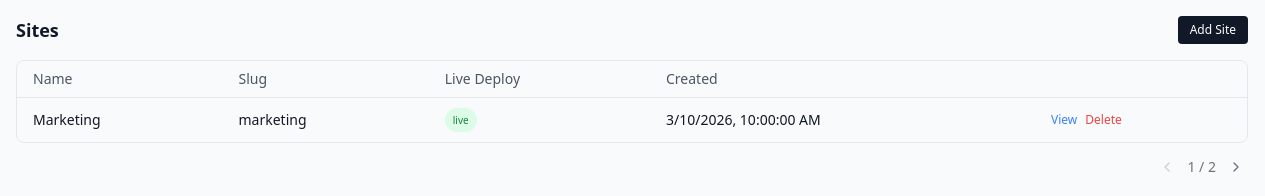
it: Sites › loads the selected sites page when pagination advances
The image size is (1265, 196).
Expected: the text "Marketing" is shown, top-left (17, 98), bottom-right (222, 142)
Click the button named "next page".
click(1236, 167)  # box top-left (1224, 155), bottom-right (1248, 179)
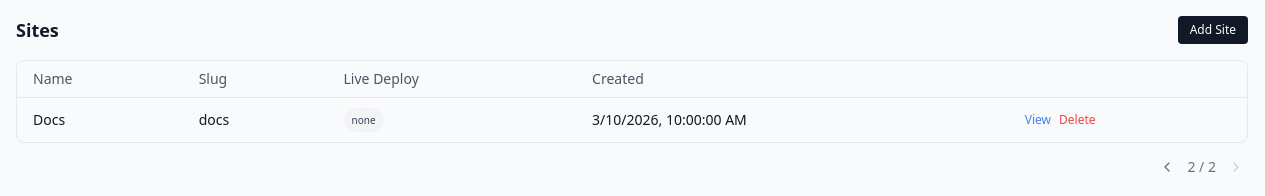
Expected: the text "Docs" is shown, top-left (17, 98), bottom-right (183, 142)
